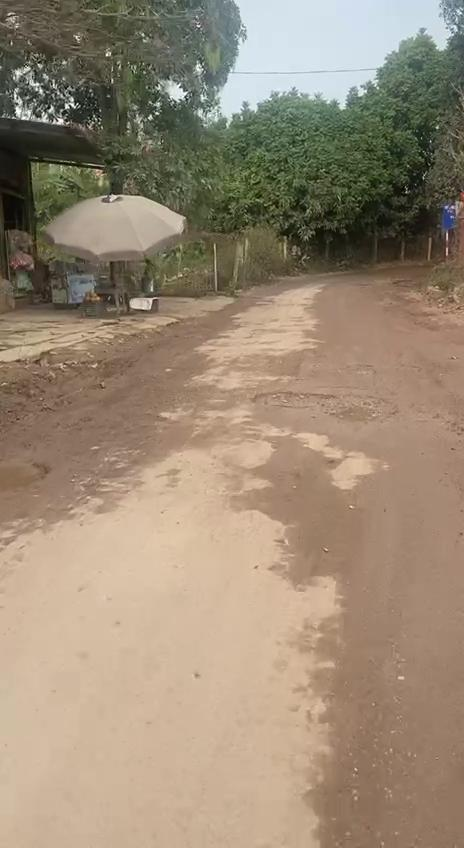pothole: (248, 386, 404, 428), (0, 448, 52, 506)
